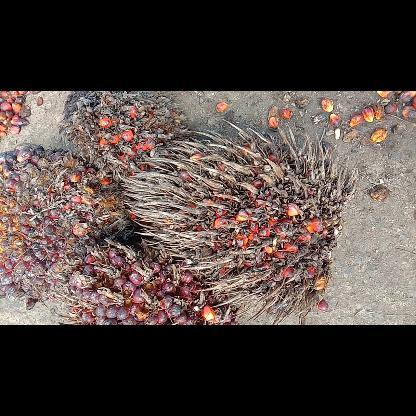TBS masak: (0, 146, 136, 310), (51, 238, 239, 324)
Terlalu masak: (121, 118, 357, 324), (58, 90, 188, 182)
